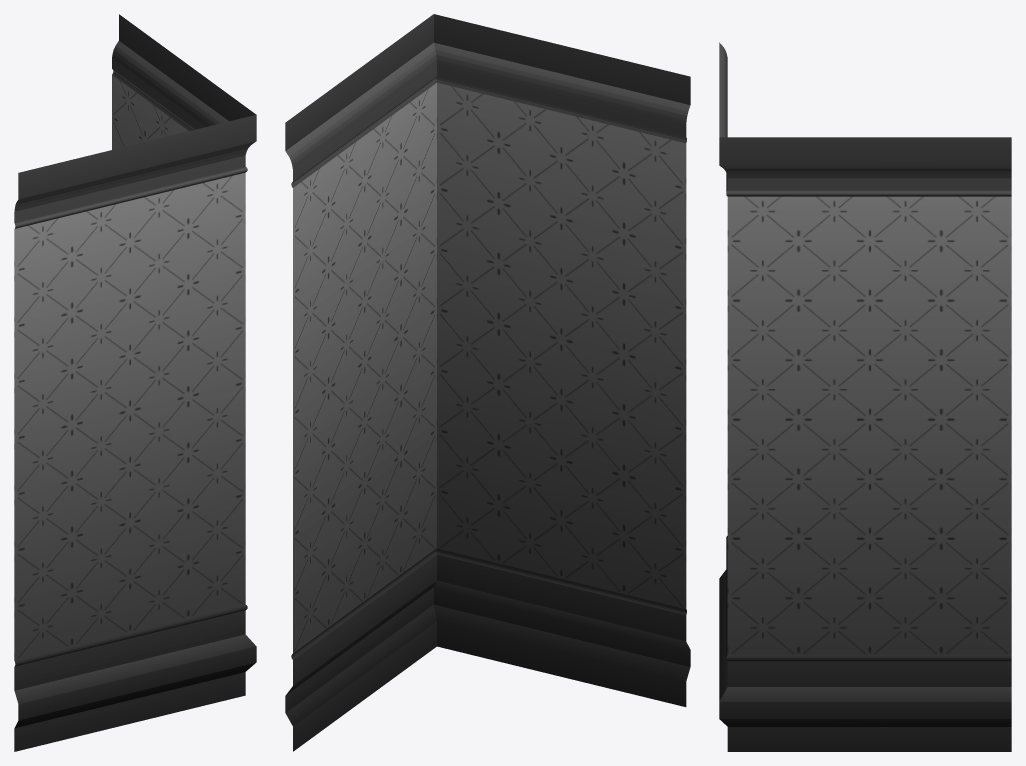
The model's file is Wall_02_Ext_Dark 1.fbx.
The picture shows the model from 3 angles, left to right: view 1: azimuth 30°, elevation 25°; view 2: azimuth 150°, elevation 25°; view 3: azimuth 270°, elevation 25°; orthographic projection. The views are drawn at different scales.
Parts seen in each view (by area): view 1: Wall_02_Ext_Dark; view 2: Wall_02_Ext_Dark; view 3: Wall_02_Ext_Dark.
Boxes of the visible parts, box(x1,y1,x2,y2) form: Wall_02_Ext_Dark: box(14, 14, 256, 751); Wall_02_Ext_Dark: box(285, 14, 690, 751); Wall_02_Ext_Dark: box(719, 42, 1011, 751).
Size of the model in its own units: 1.14 by 2.65 by 1.14.
